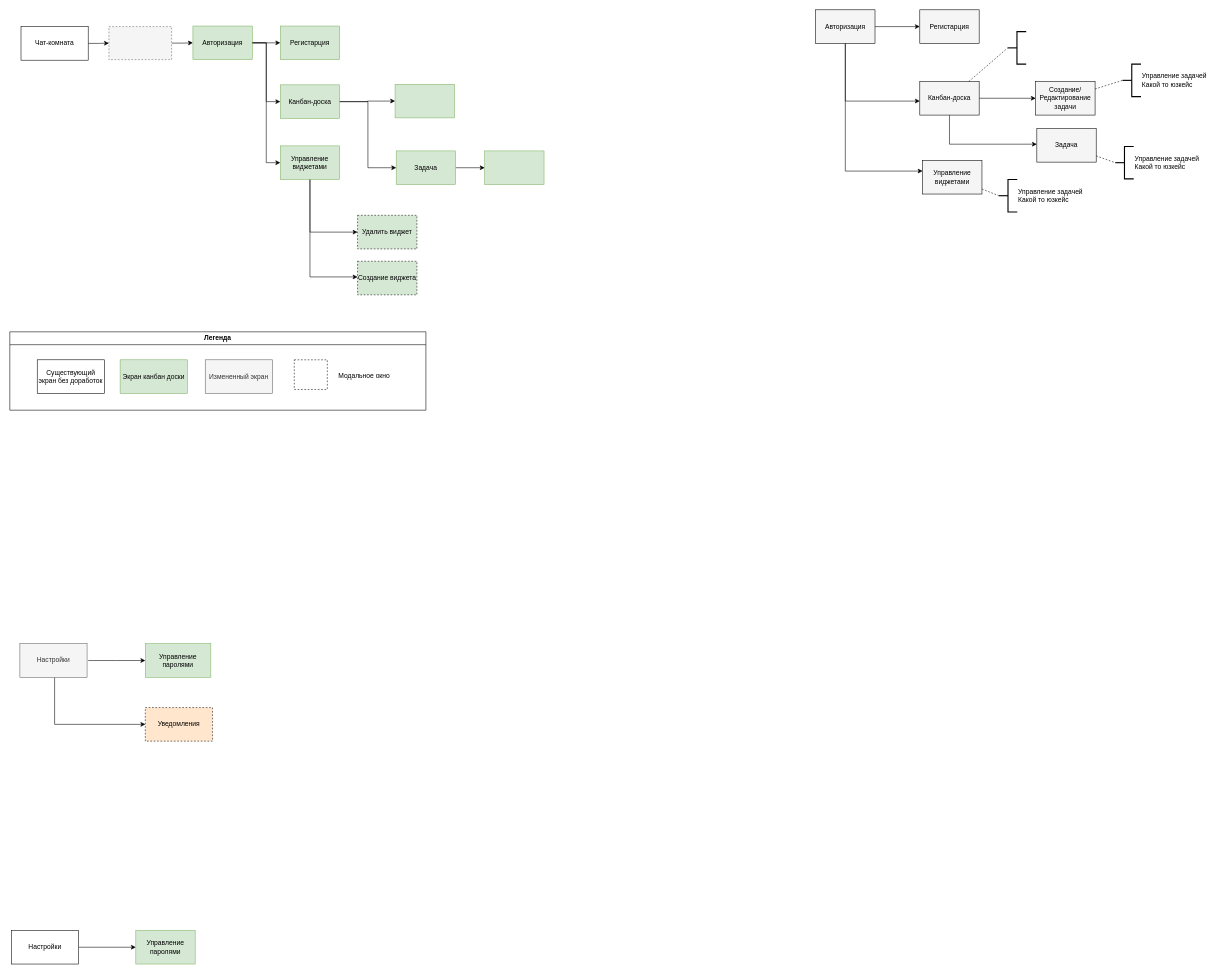
This 1216x974 diagram has some shape labels left out. Each missing label, with the centre of its shape:
"Информация чат-комнаты" goes at pixel 140 43.
"Просмотр задач" goes at pixel 1016 47.
"Редакатирование задачи" goes at pixel 514 167.
"Создание задачи" goes at pixel 424 101.
